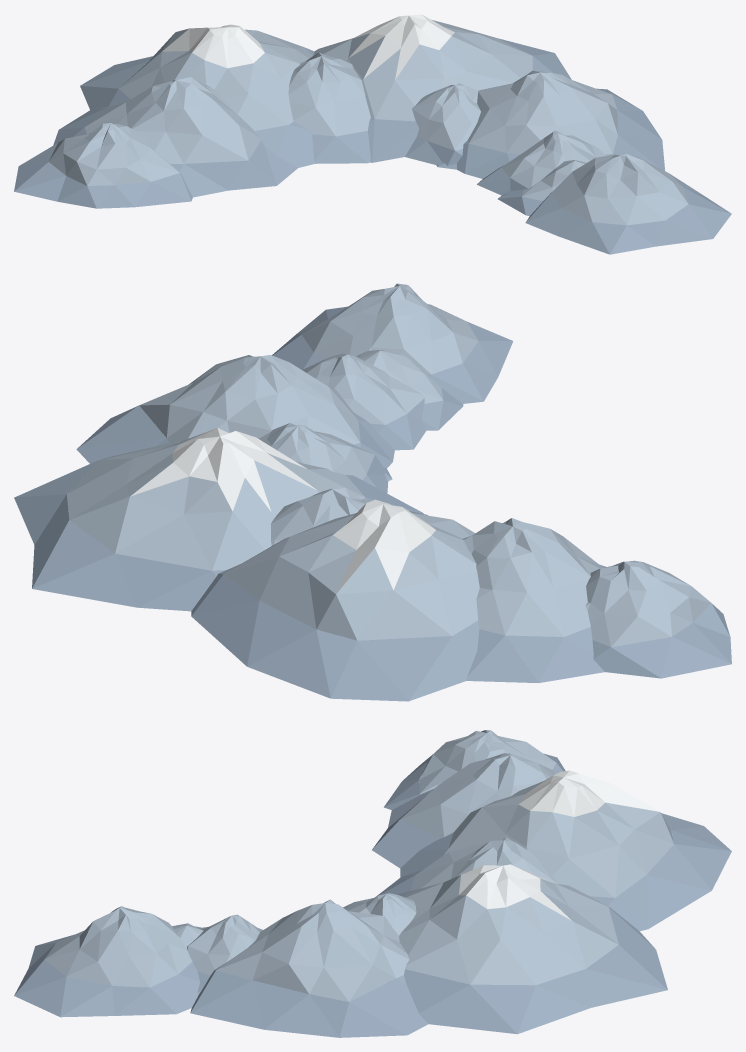
The model's file is mountains_far.glb.
3 views of the same model, one above another, from view 1: azimuth 30°, elevation 25°; view 2: azimuth 150°, elevation 25°; view 3: azimuth 270°, elevation 25° (orthographic). The views are drawn at different scales.
Parts seen in each view (by area): view 1: mountains_far; view 2: mountains_far; view 3: mountains_far.
Part boxes in pixels (x1=…): mountains_far: x1=14, y1=14, x2=731, y2=254; mountains_far: x1=14, y1=283, x2=731, y2=701; mountains_far: x1=14, y1=730, x2=731, y2=1037.
Bounding box in the file's own units: 838 × 123 × 859.
